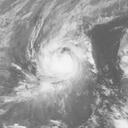cyclone: (35, 38, 95, 88)
